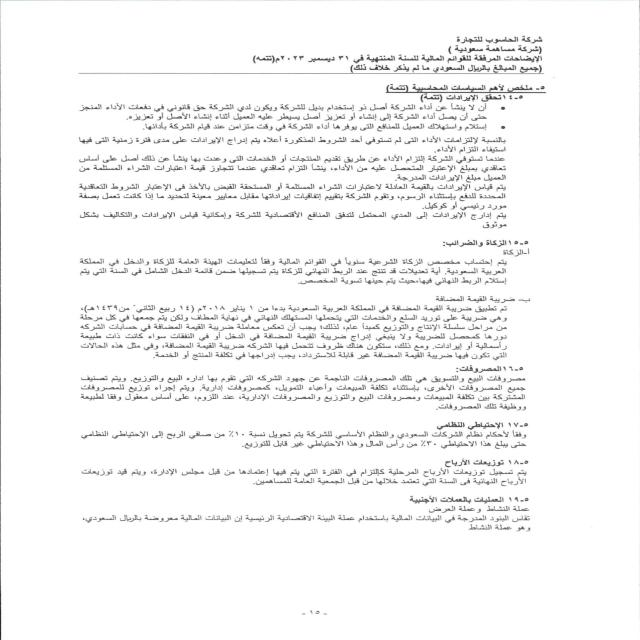notes: (420, 55, 546, 65)
text: (42, 79, 552, 548)
